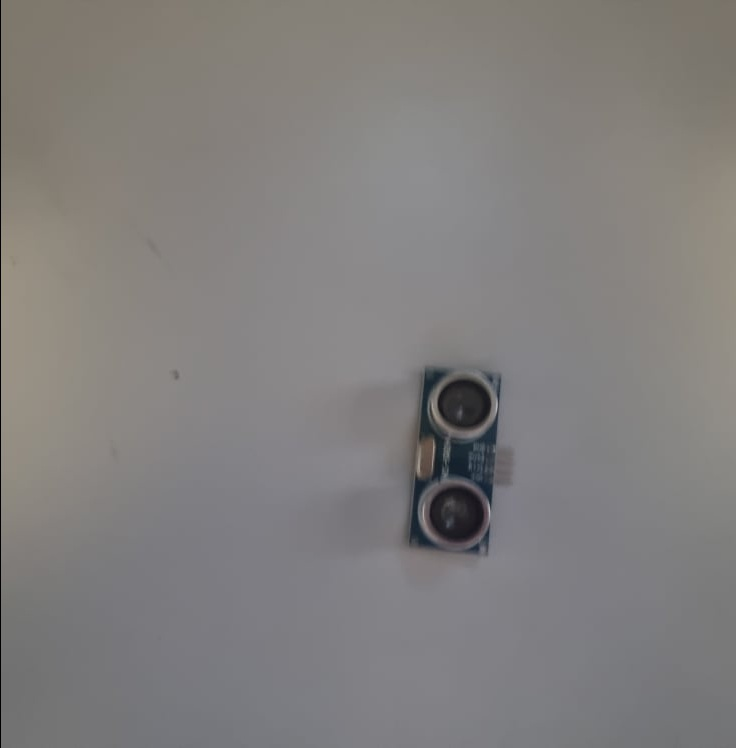SENSOR: (402, 366, 514, 558)
